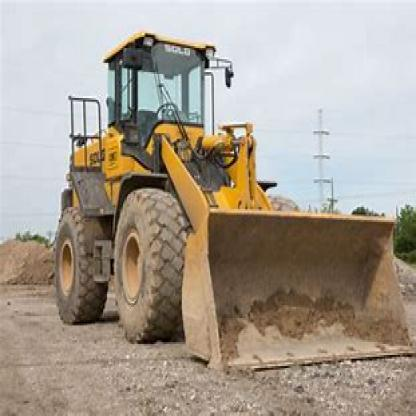bull_dozer/loader/grader: (46, 20, 414, 374)
